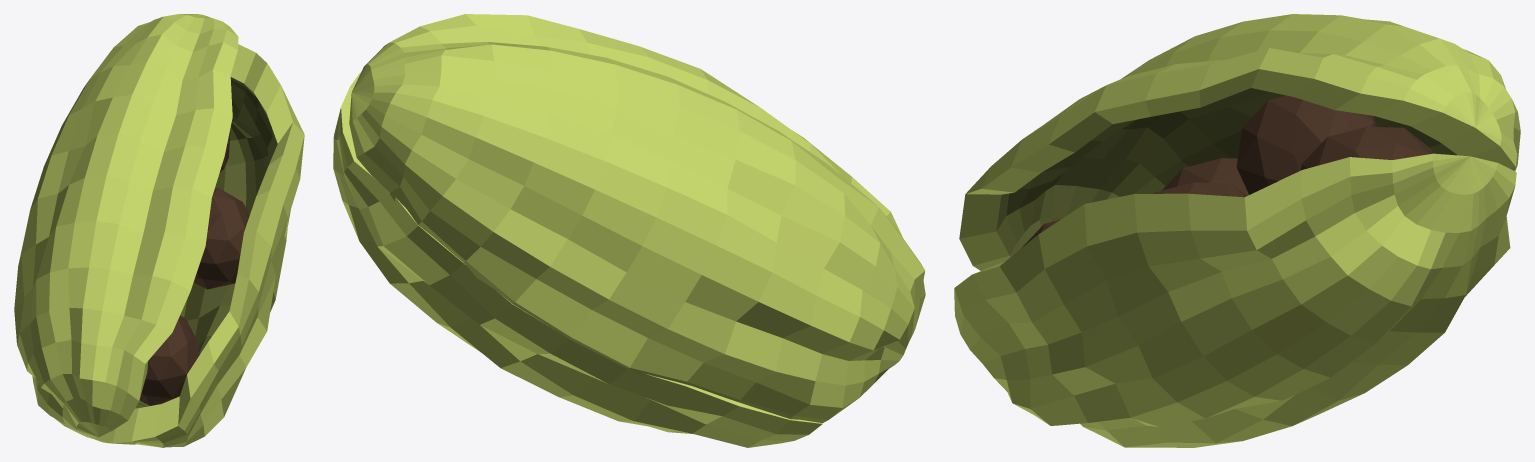
The picture shows the model from 3 angles, left to right: view 1: azimuth 30°, elevation 25°; view 2: azimuth 150°, elevation 25°; view 3: azimuth 270°, elevation 25°; orthographic projection. The views are drawn at different scales.
Visible parts, largest first — view 1: elachi, seeds; view 2: elachi; view 3: elachi, seeds.
Boxes of the visible parts, left/top/right/bottom form: elachi: left=14, top=14, right=304, bottom=447; seeds: left=139, top=128, right=249, bottom=405; elachi: left=333, top=14, right=925, bottom=447; elachi: left=954, top=14, right=1520, bottom=447; seeds: left=1021, top=95, right=1433, bottom=248.
Size of the model in its own units: 302 by 285 by 300.
